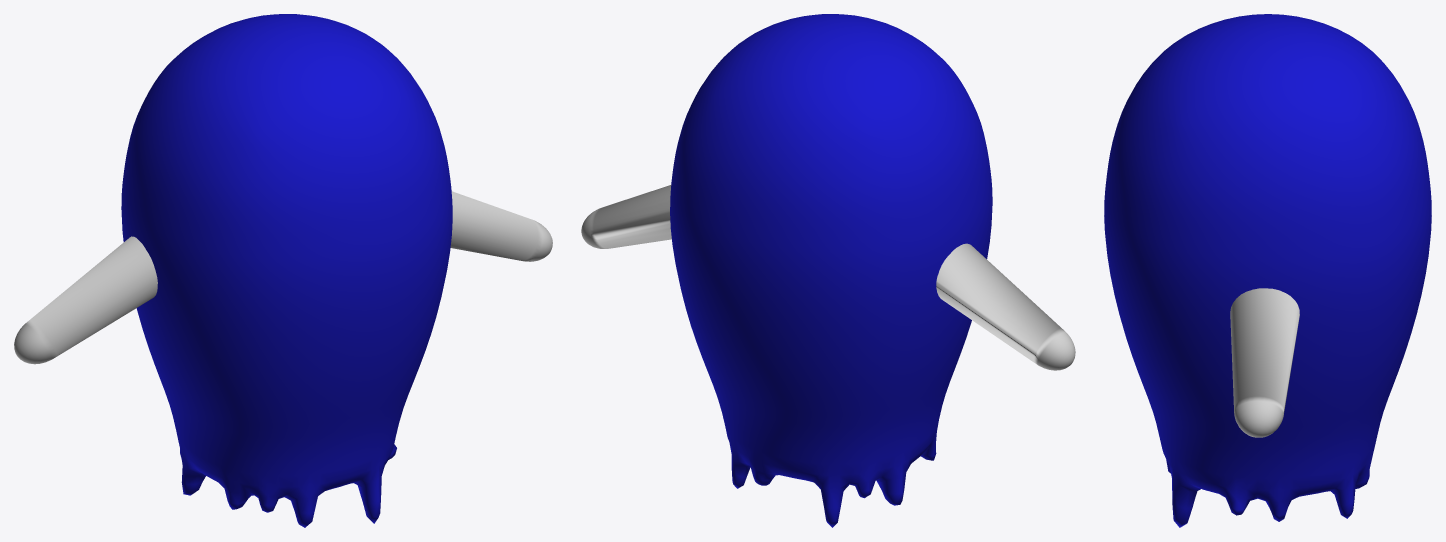
The model's file is beforeThrow_00008.obj.
3 views of the same model, side by side, from view 1: azimuth 30°, elevation 25°; view 2: azimuth 150°, elevation 25°; view 3: azimuth 270°, elevation 25° (orthographic). The views are drawn at different scales.
Parts seen in each view (by area): view 1: Cube, Sphere.001, Sphere; view 2: Cube, Sphere.001, Sphere; view 3: Cube, Sphere.
Boxes of the visible parts, box(x1,y1,x2,y2) form: Cube: box(121, 14, 452, 527); Sphere.001: box(14, 236, 157, 364); Sphere: box(450, 191, 552, 261); Cube: box(670, 14, 992, 527); Sphere.001: box(936, 243, 1075, 370); Sphere: box(581, 185, 671, 248); Cube: box(1104, 14, 1431, 527); Sphere: box(1230, 288, 1299, 437).
Size of the model in its own units: 0.5253 by 0.4583 by 0.2859.
